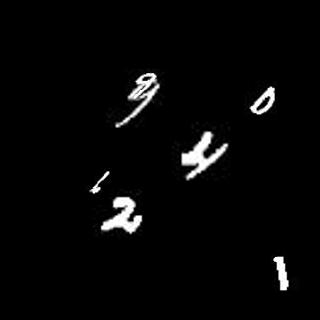four: (175, 128, 229, 182)
nine: (113, 83, 164, 129), (135, 71, 153, 96)
one: (273, 256, 297, 292)
six: (87, 168, 112, 195)
two: (100, 193, 141, 234)
zero: (248, 83, 276, 118)
